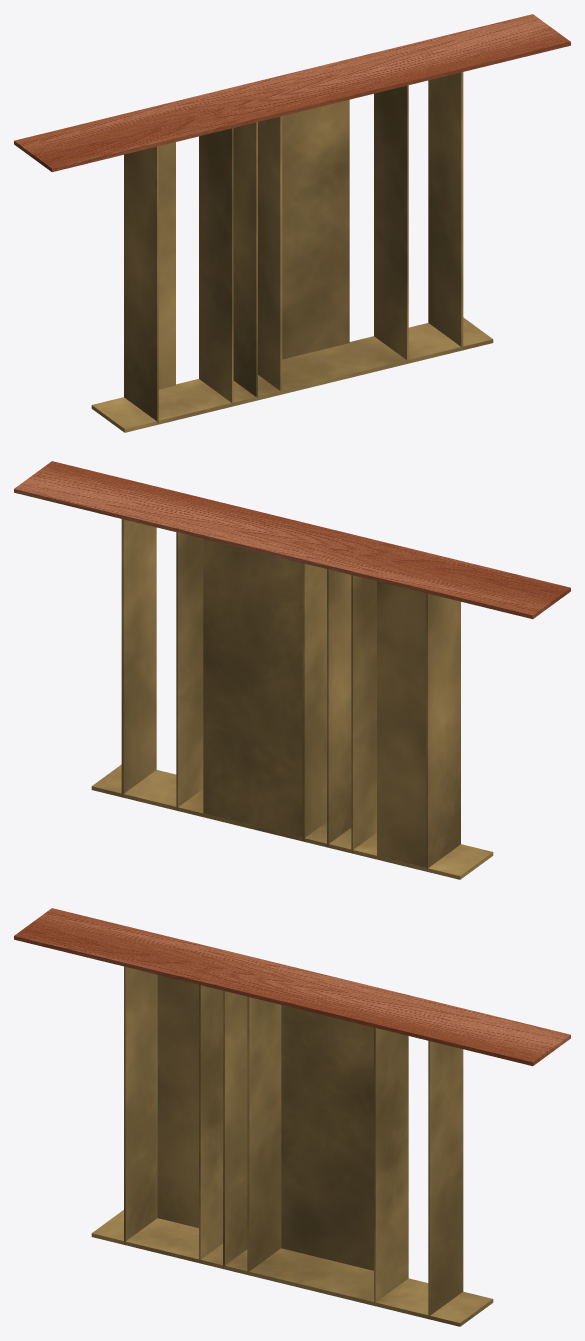
File: Table05.fbx
The picture shows the model from 3 angles, top to bottom: view 1: azimuth 30°, elevation 25°; view 2: azimuth 150°, elevation 25°; view 3: azimuth 330°, elevation 25°; orthographic projection.
Visible parts, largest first — view 1: Table05; view 2: Table05; view 3: Table05.
Boxes of the visible parts, x1,y1,x2,y2 form: Table05: (14,14,570,432); Table05: (14,461,570,879); Table05: (14,908,570,1326).
Size of the model in its own units: 1450 by 760 by 184.
